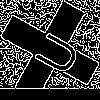U: (25, 25, 83, 79)
